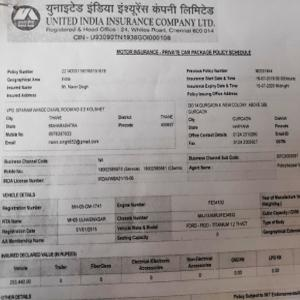table: (1, 191, 300, 248), (2, 253, 300, 285)
text: (183, 62, 300, 149), (4, 97, 177, 150), (2, 64, 111, 98), (113, 47, 254, 58)
